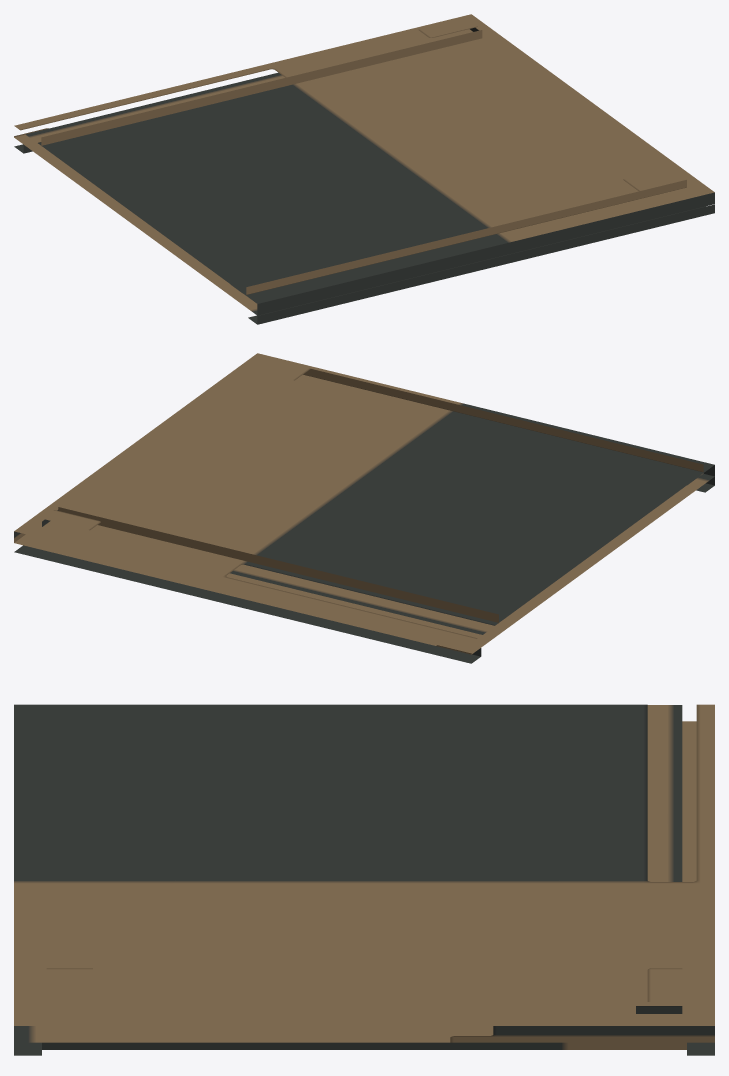
The model's file is section-5.obj.
3 renders of one model, top to bottom at view 1: azimuth 30°, elevation 25°; view 2: azimuth 150°, elevation 25°; view 3: azimuth 270°, elevation 25°, orthographic. The views are drawn at different scales.
Size of the model in its own units: 0.833 by 0.0995 by 0.754.
